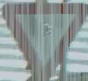Give way: (3, 2, 83, 75)
